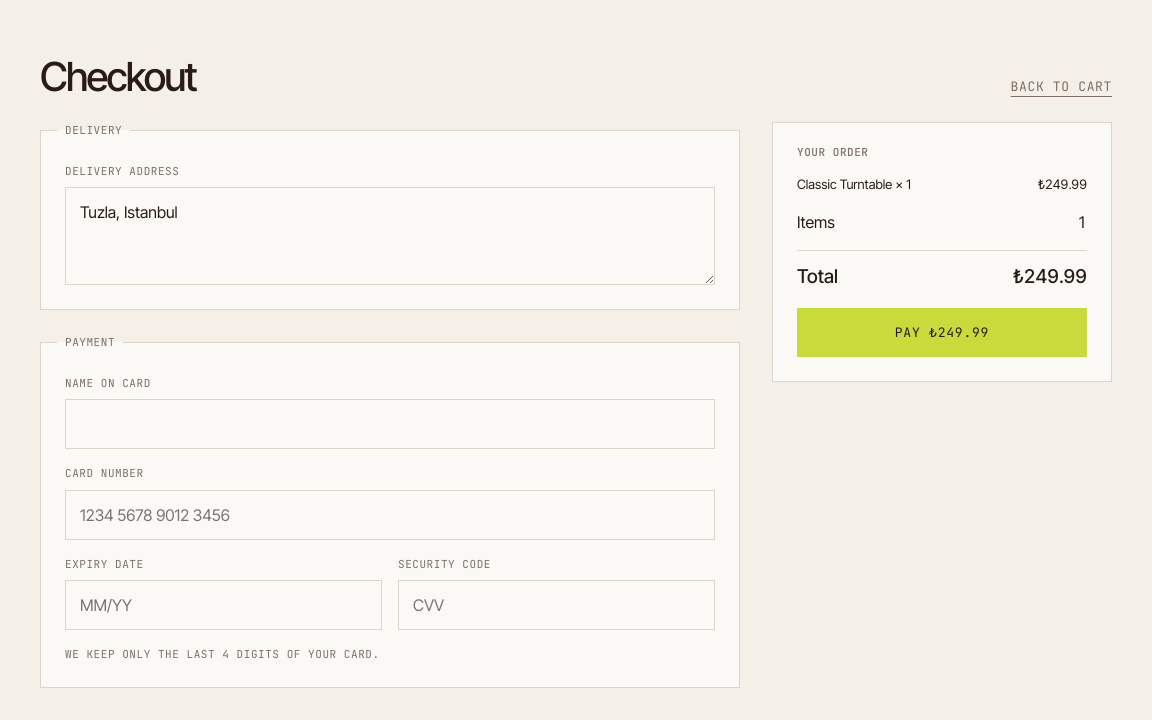
Scenario: CheckoutPage › asks for missing fields and sends nothing
The image size is (1152, 720).
Expected: the text "Classic Turntable × 1" is shown, [797,174,911,194]
Clear the text box labelled "Delivery address": (390, 236) [65,187,715,285]
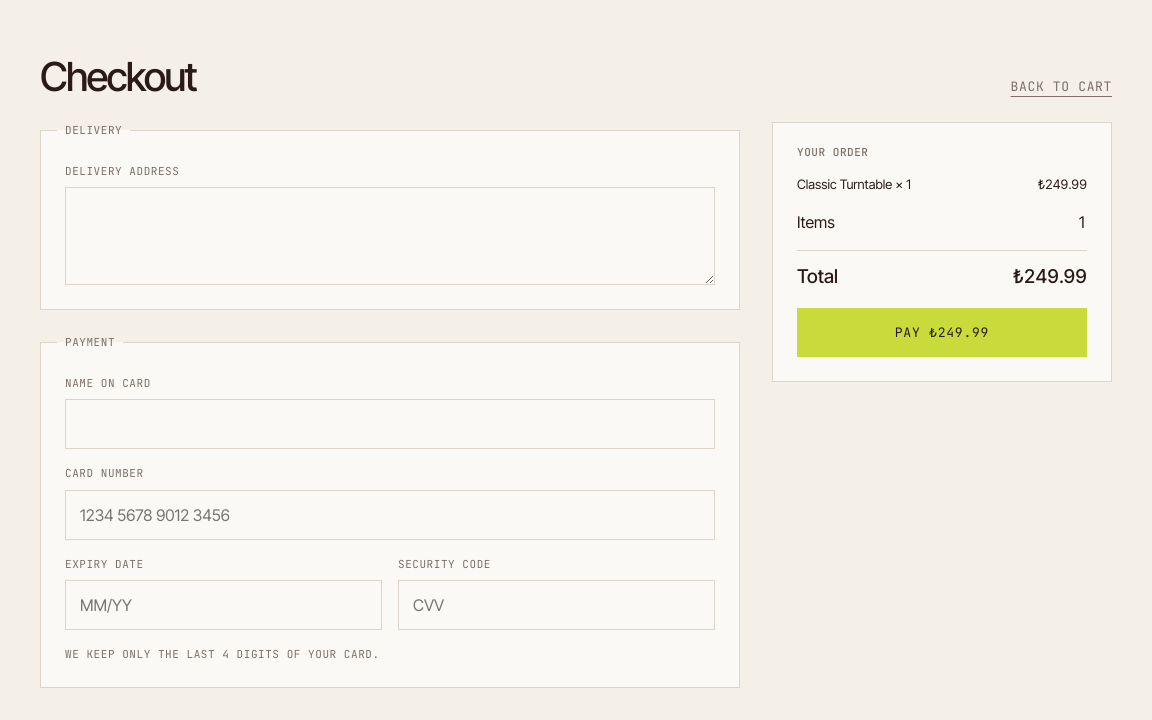
Click the button "Pay ₺249.99": (942, 332) [797,308,1087,357]
(page scrolled)
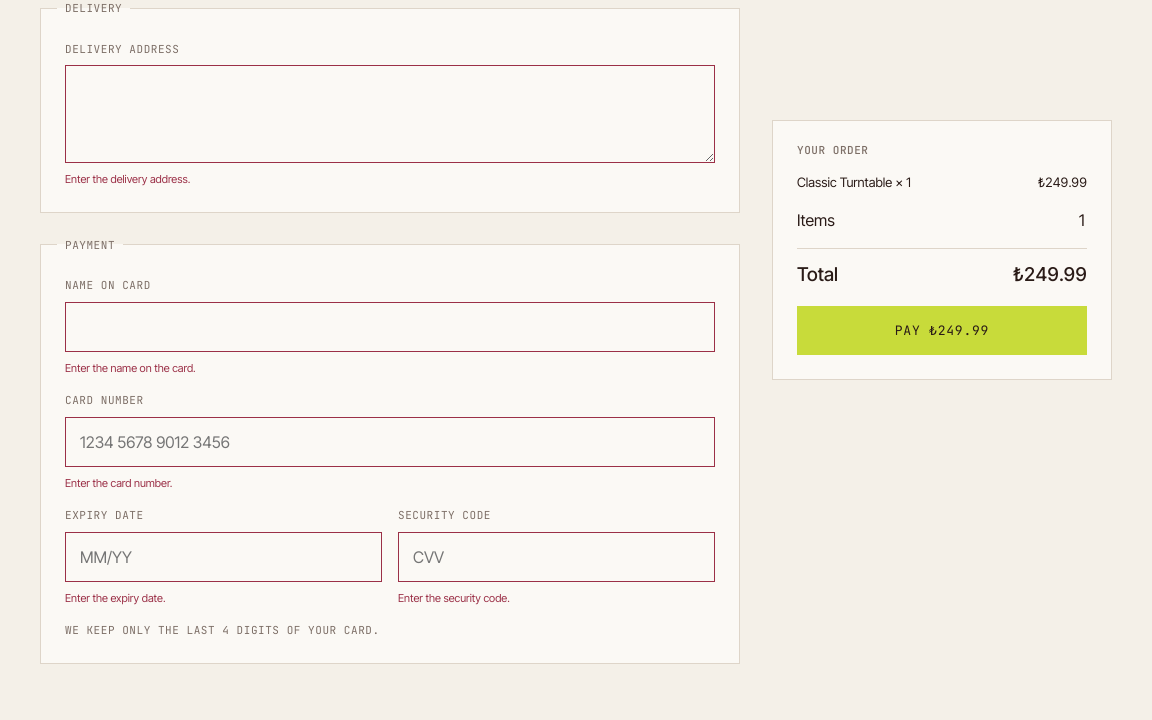
Result: the text "Enter the delivery address." is shown at [65,172,190,186]
Result: the text "Enter the name on the card." is shown at [65,360,196,374]
Result: the text "Enter the card number." is shown at [65,476,172,490]
